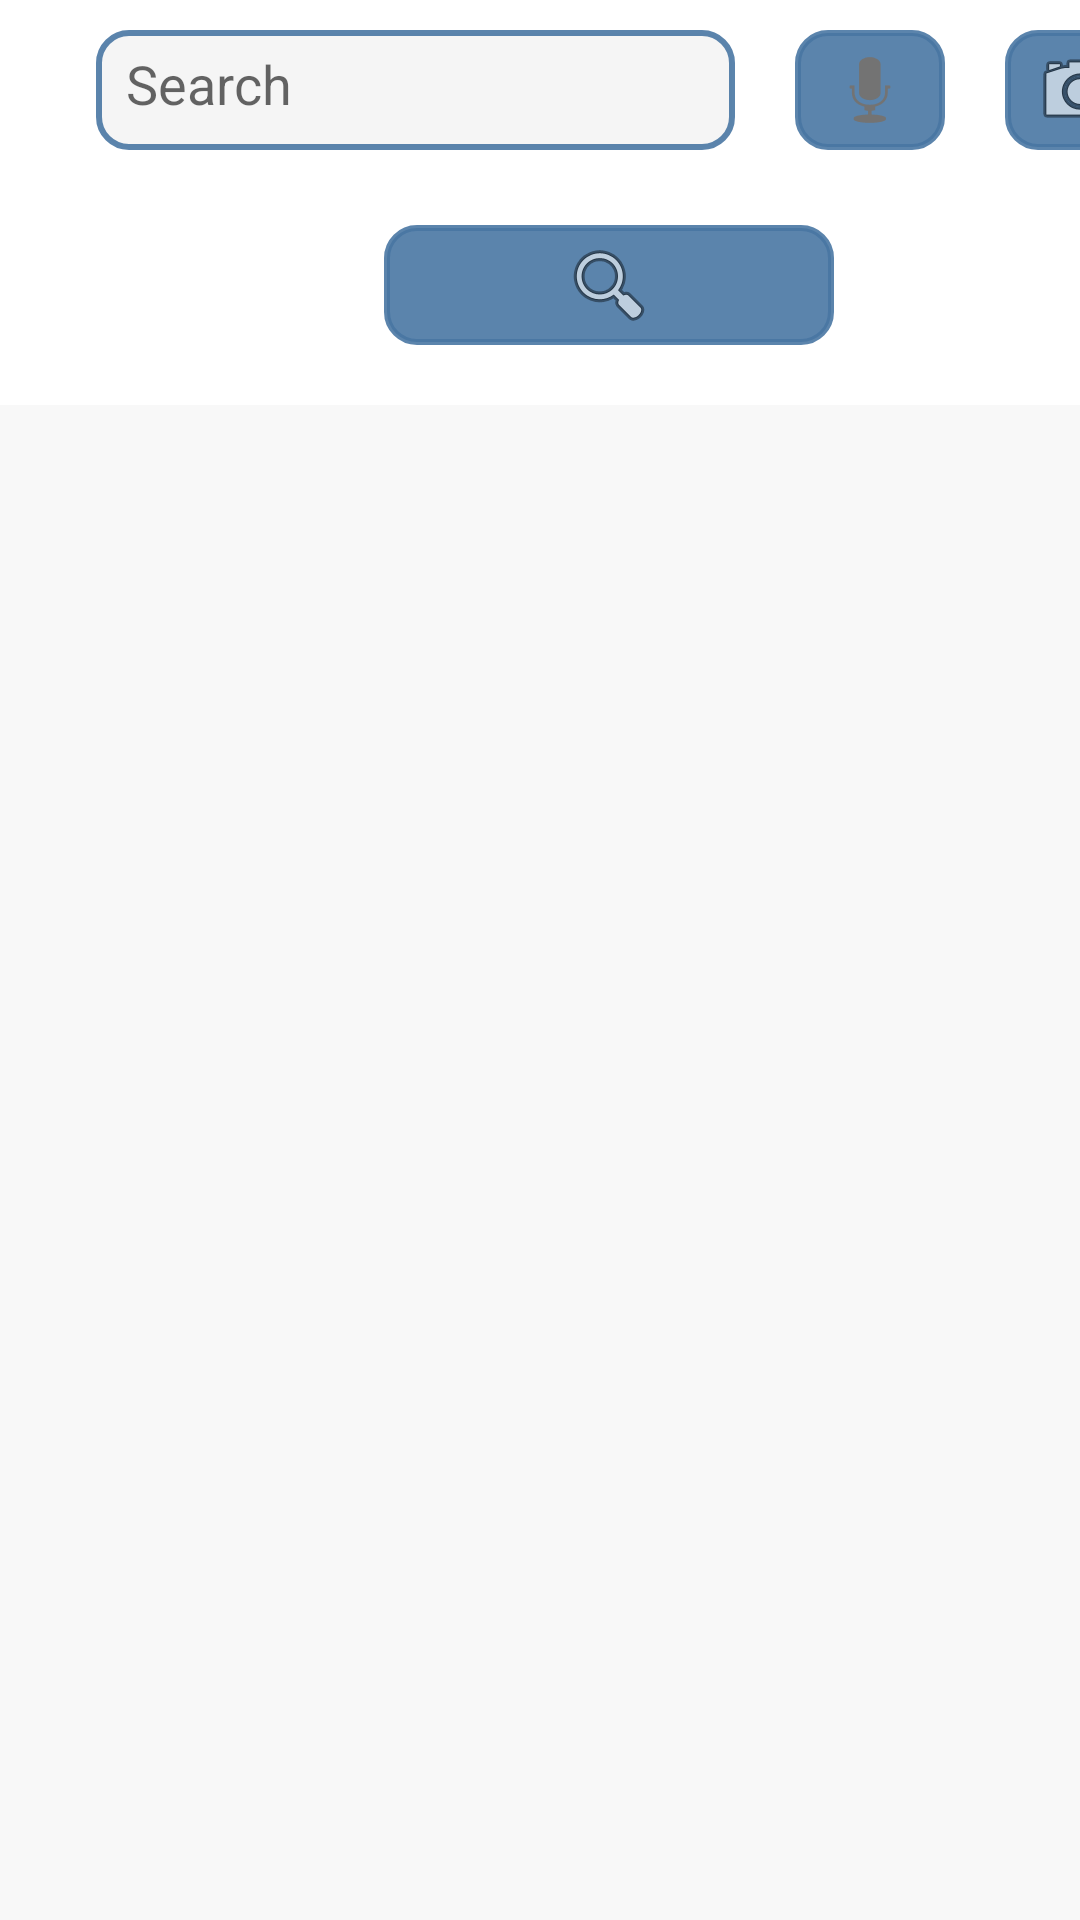

Icon bounding boxes for this 1080 x 1920 phone screenshot, format (x1, y1, x2, y2):
speak now: (795, 30, 945, 150)
